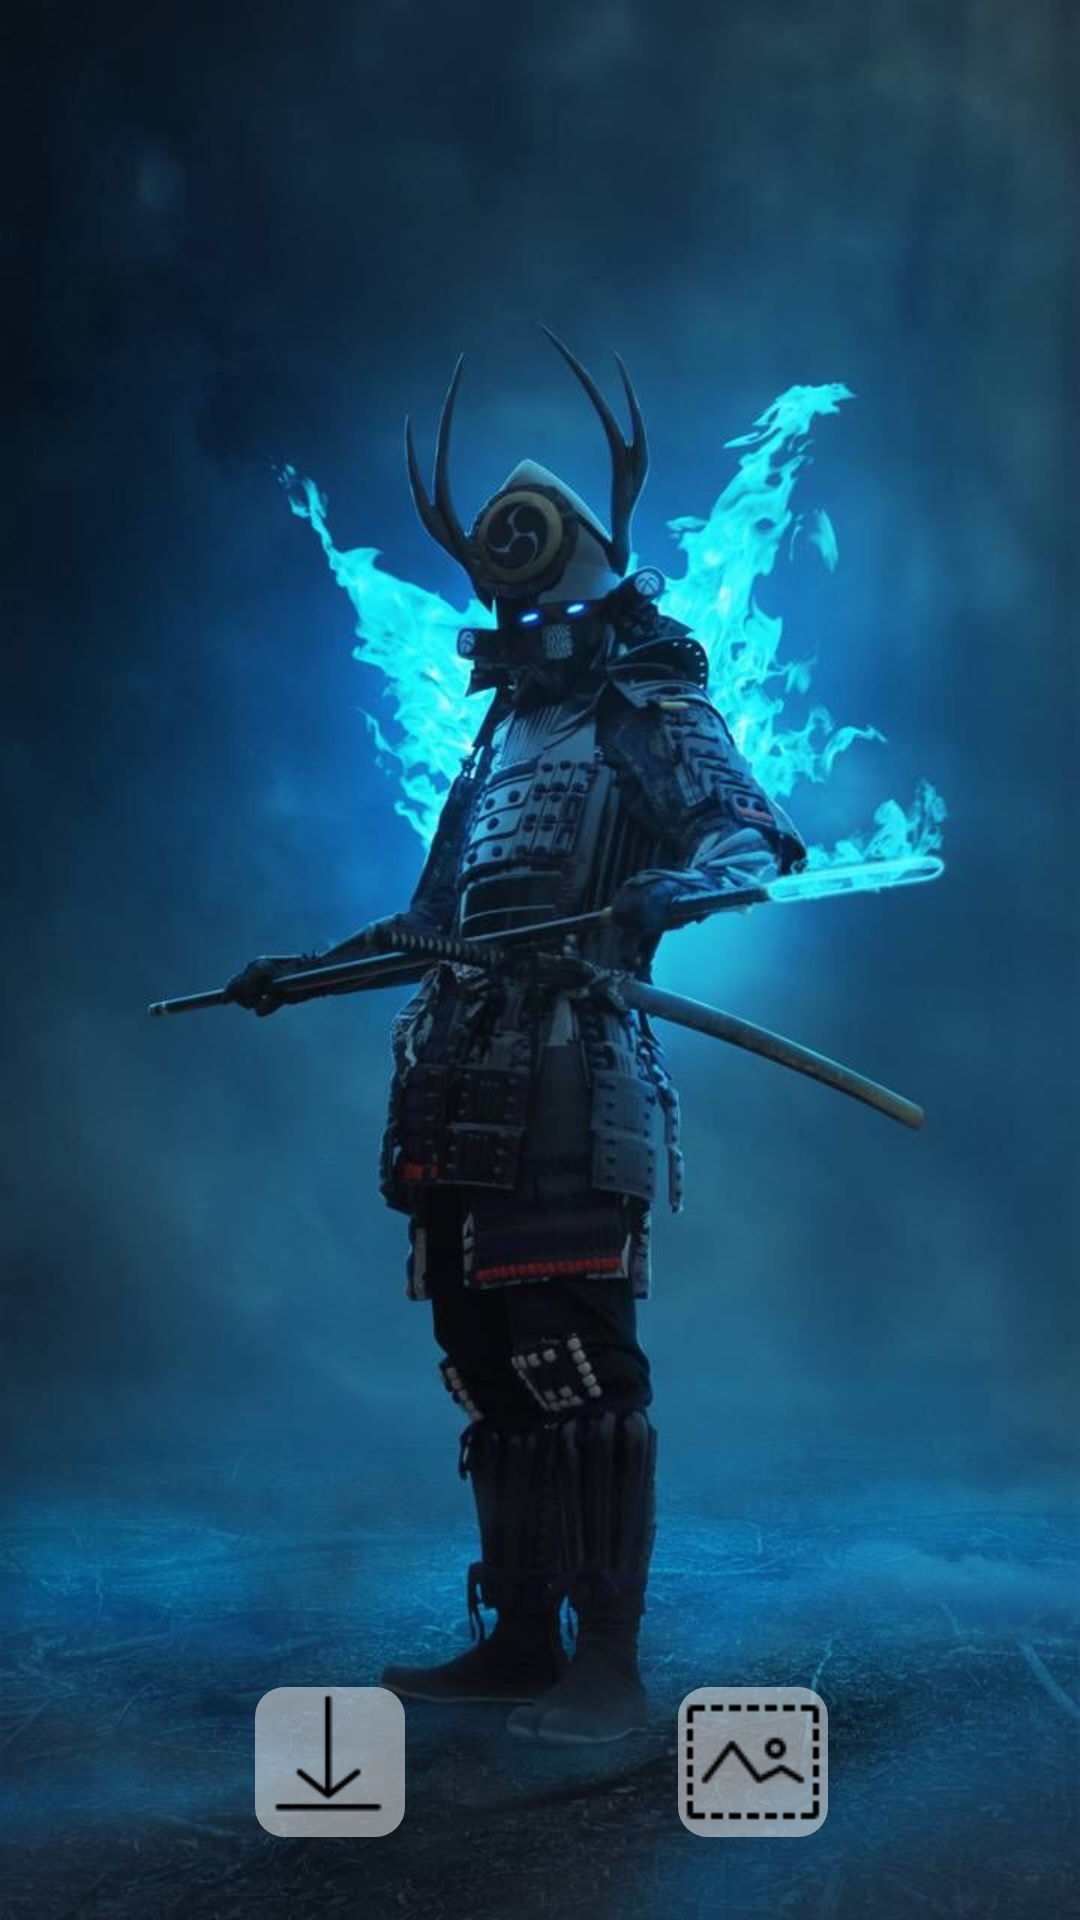

Where to tap for icons on this 1080x1920 app screen, as point (x, y):
download: point (330, 1762)
